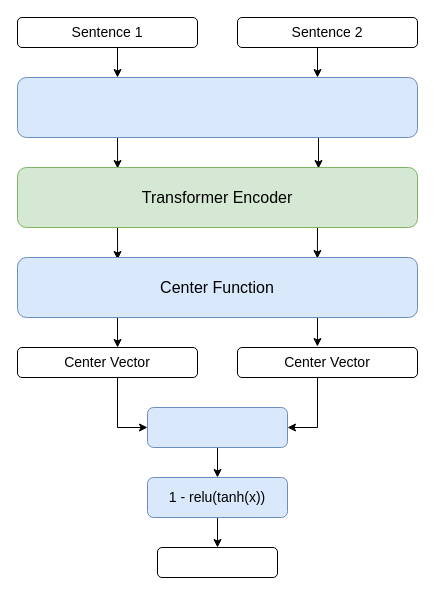
Some shapes in this 435 by 595 pixel diagram are drawn without their labels. The shapes that lost their labels are listed below. From the top down, each one's box as (x1, y1, x2, y2) in pixels, then its label:
(16, 76, 418, 138): GloVe Embedding Dictionary
(146, 406, 288, 448): Distance
(156, 546, 278, 578): Similarity Score
